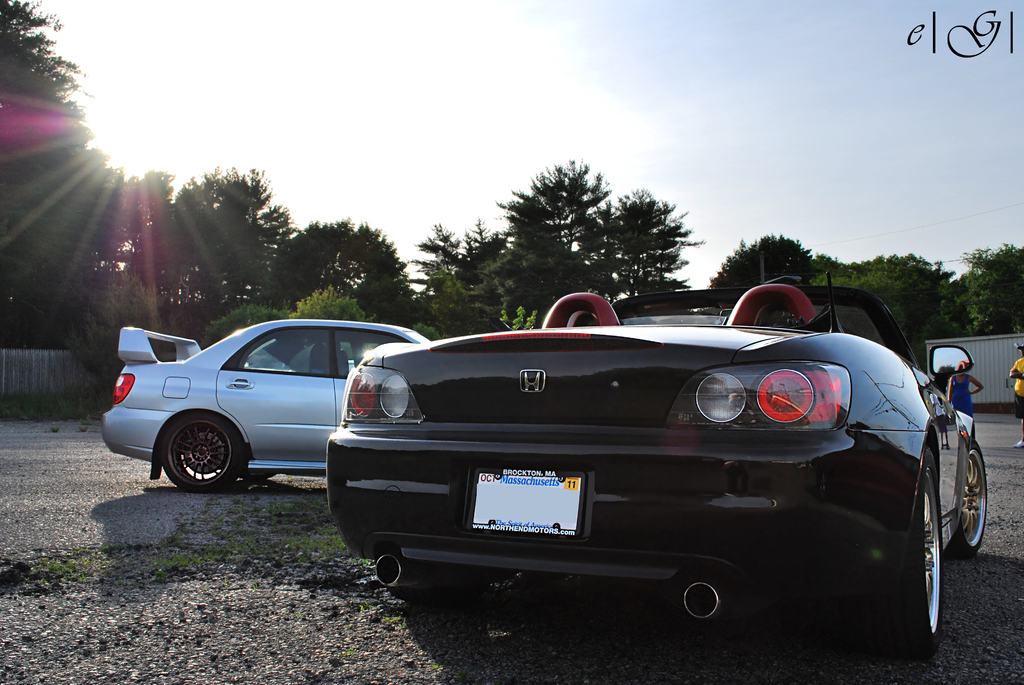Car: (322, 278, 986, 656), (95, 315, 430, 492)
